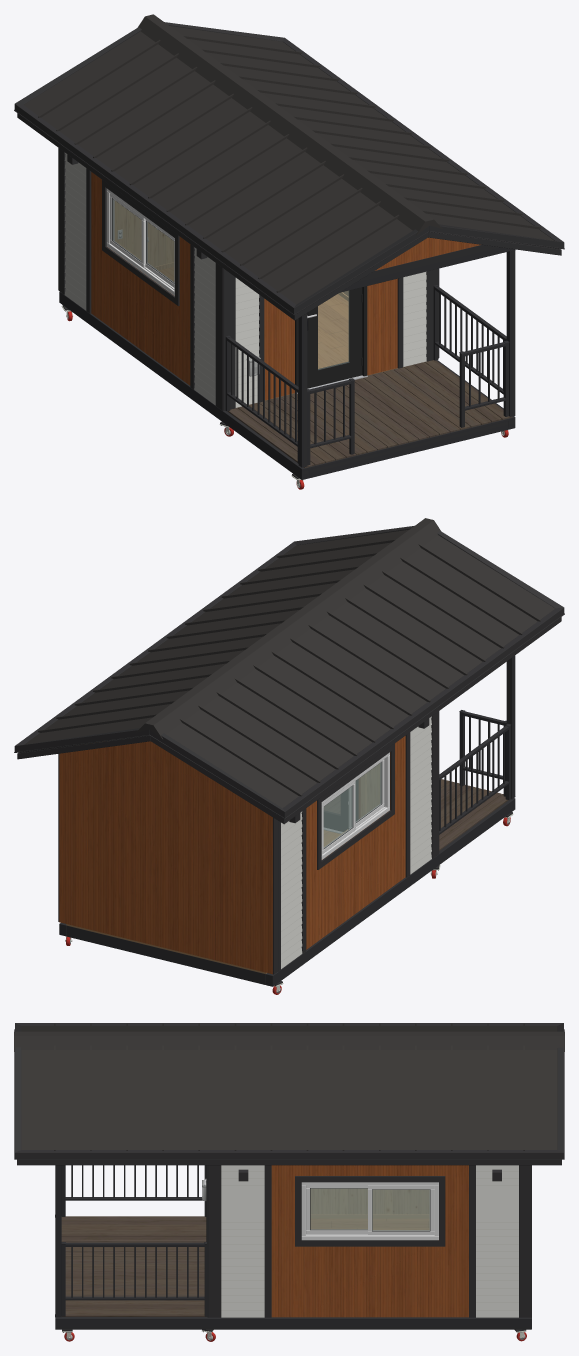
Rendered from seum-hwangto.glb.
The picture shows the model from 3 angles, top to bottom: view 1: azimuth 30°, elevation 25°; view 2: azimuth 150°, elevation 25°; view 3: azimuth 270°, elevation 25°; orthographic projection.
Parts seen in each view (by area): view 1: 지붕_징크_차콜, 각관_분체도장_차콜, 합성데크, 지붕_차콜메탈, 흰색사이딩_판, 차콜메탈, 우드톤_강판사이딩_Y, 우드톤_강판사이딩_X, 로이복층유리, 현관문_블랙, 오크장판, 지붕_각관_분체도장_차콜 (+3 smaller); view 2: 지붕_징크_차콜, 우드톤_강판사이딩_X, 지붕_차콜메탈, 각관_분체도장_차콜, 우드톤_강판사이딩_Y, 차콜메탈, 흰색사이딩_판, 로이복층유리, 합성데크, PVC창틀_백색, 지붕_우드톤_강판사이딩_X, 현관문_블랙; view 3: 지붕_징크_차콜, 우드톤_강판사이딩_Y, 흰색사이딩_판, 합성데크, 각관_분체도장_차콜, 지붕_차콜메탈, 차콜메탈, 로이복층유리, PVC창틀_백색, 편백루바_벽Y, 오크장판, 편백_몰딩 (+1 smaller).
Boxes of the visible parts, x1,y1,x2,y2 form: 지붕_징크_차콜: (24,14,553,304); 각관_분체도장_차콜: (59,250,515,479); 합성데크: (227,360,512,467); 지붕_차콜메탈: (14,22,564,320); 흰색사이딩_판: (64,153,426,407); 차콜메탈: (58,148,439,478); 우드톤_강판사이딩_Y: (91,172,190,385); 우드톤_강판사이딩_X: (264,278,397,400); 로이복층유리: (112,199,349,369); 현관문_블랙: (295,286,367,392); 오크장판: (159,267,348,368); 지붕_각관_분체도장_차콜: (340,245,514,292); 지붕_징크_차콜: (25,518,555,808); 우드톤_강판사이딩_X: (59,750,360,974); 지붕_차콜메탈: (14,526,564,824); 각관_분체도장_차콜: (59,655,515,986); 우드톤_강판사이딩_Y: (306,736,405,949); 차콜메탈: (58,711,512,985); 흰색사이딩_판: (281,716,431,968); 로이복층유리: (323,762,381,847); 합성데크: (324,779,508,850); PVC창틀_백색: (321,752,389,859); 지붕_우드톤_강판사이딩_X: (87,741,213,780); 현관문_블랙: (324,779,358,831); 지붕_징크_차콜: (14,1023,564,1150); 우드톤_강판사이딩_Y: (271,1165,468,1317); 흰색사이딩_판: (221,1165,518,1317); 합성데크: (61,1216,206,1316); 각관_분체도장_차콜: (55,1165,531,1329); 지붕_차콜메탈: (14,1023,564,1165); 차콜메탈: (62,1165,531,1331); 로이복층유리: (310,1188,429,1230); PVC창틀_백색: (301,1182,438,1240); 편백루바_벽Y: (311,1189,429,1213); 오크장판: (311,1219,429,1229); 편백_몰딩: (311,1214,429,1218).
Bounding box in the file's own units: 3.81 × 3.52 × 6.82.
54 materials, 13 textured.
